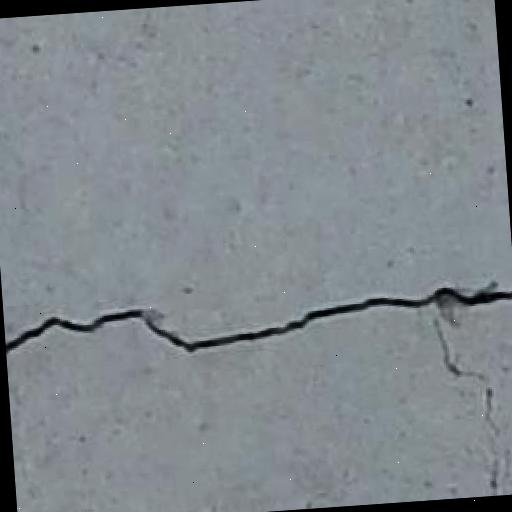spalling: (14, 248, 509, 369)
